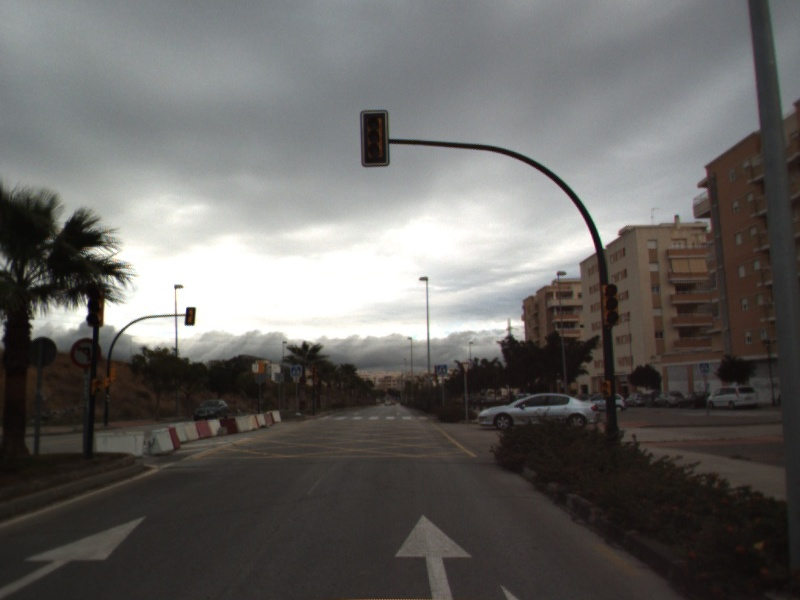STRAIGHT: (1, 513, 149, 600), (393, 512, 475, 600)
